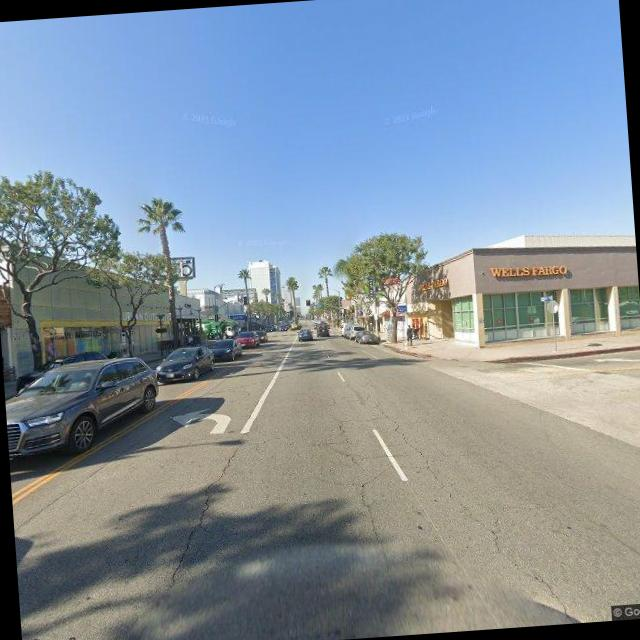pothole: (332, 386, 573, 628), (152, 434, 254, 584)
